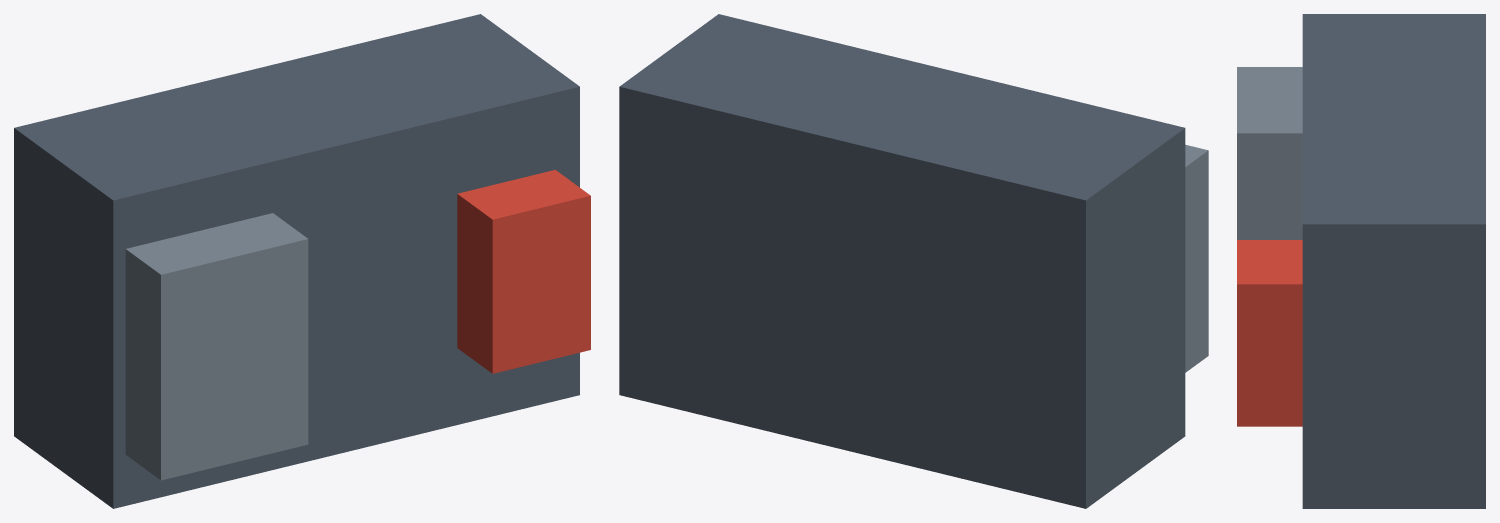
The picture shows the model from 3 angles, left to right: view 1: azimuth 30°, elevation 25°; view 2: azimuth 150°, elevation 25°; view 3: azimuth 270°, elevation 25°; orthographic projection. The views are drawn at different scales.
Parts seen in each view (by area): view 1: GEO_module_side_accessory_01_LOD0; view 2: GEO_module_side_accessory_01_LOD0; view 3: GEO_module_side_accessory_01_LOD0.
Boxes of the visible parts, bbox=[...] form: GEO_module_side_accessory_01_LOD0: bbox=[14, 14, 590, 508]; GEO_module_side_accessory_01_LOD0: bbox=[619, 14, 1208, 508]; GEO_module_side_accessory_01_LOD0: bbox=[1237, 14, 1485, 508].
Bounding box in the file's own units: 0.038 × 0.024 × 0.019.
